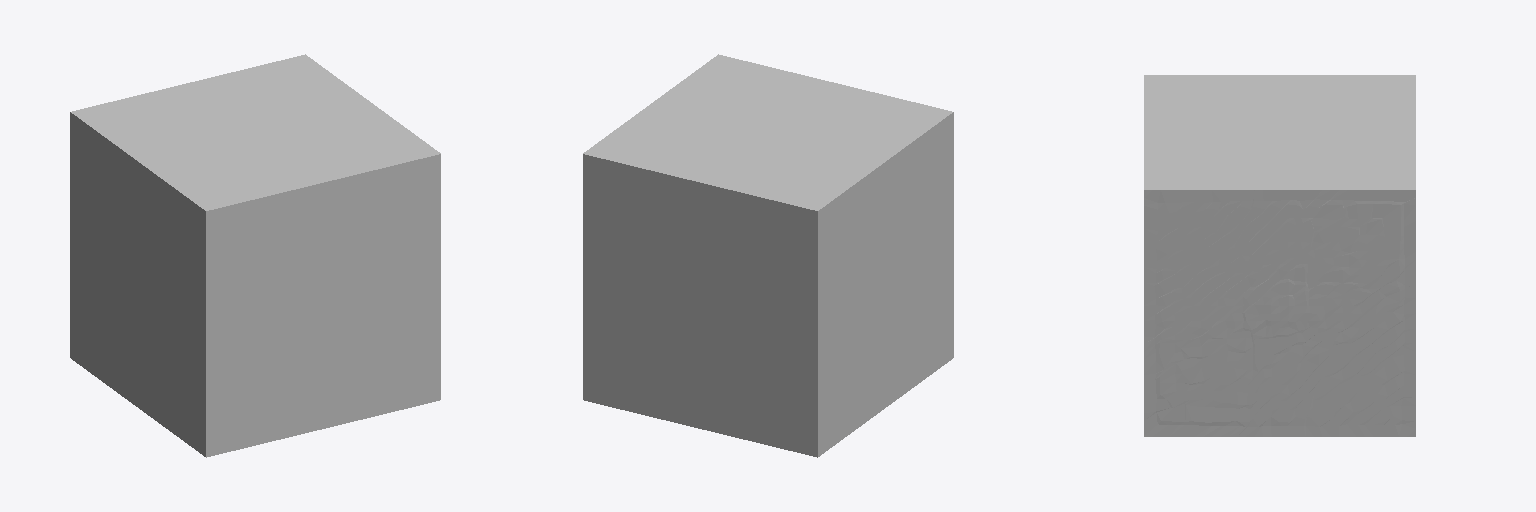
Rendered from optimize_result_x_y_z.obj.
3 views of the same model, side by side, from view 1: azimuth 30°, elevation 25°; view 2: azimuth 150°, elevation 25°; view 3: azimuth 270°, elevation 25° (orthographic).
Parts seen in each view (by area): view 1: Cube_Cube.001; view 2: Cube_Cube.001; view 3: Cube_Cube.001.
Boxes of the visible parts, box(x1,y1,x2,y2) form: Cube_Cube.001: box(70, 54, 440, 457); Cube_Cube.001: box(583, 54, 953, 457); Cube_Cube.001: box(1144, 75, 1415, 436).
Size of the model in its own units: 10.02 by 10 by 10.